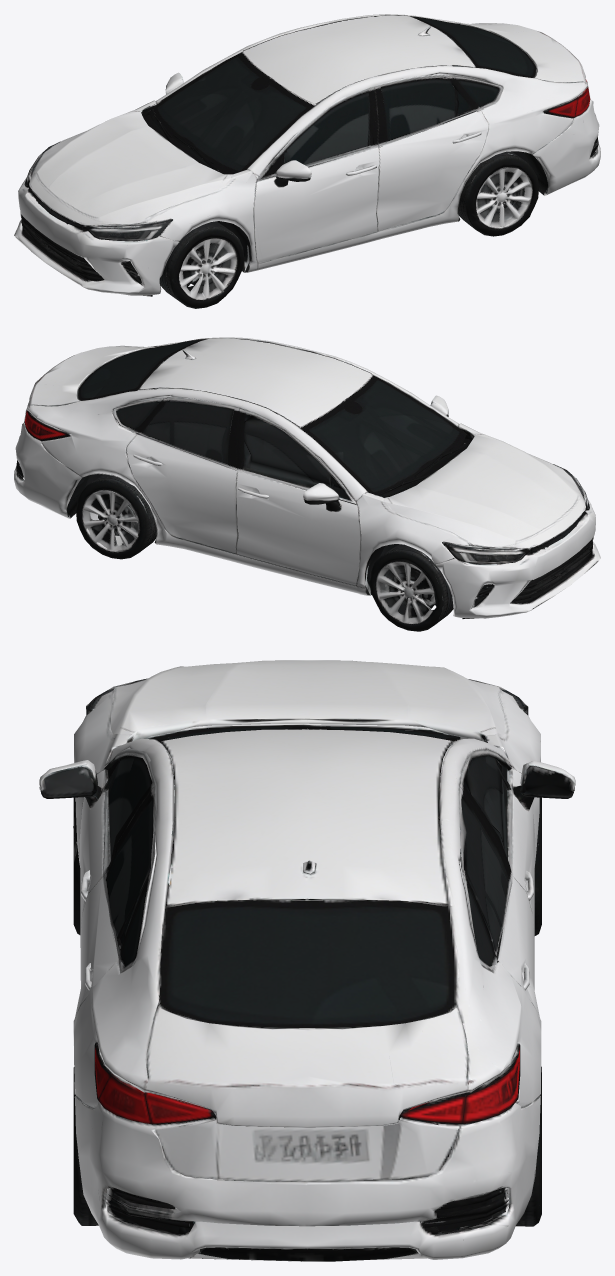
The model's file is sedan_alt.glb.
3 views of the same model, one above another, from view 1: azimuth 30°, elevation 25°; view 2: azimuth 150°, elevation 25°; view 3: azimuth 270°, elevation 25° (orthographic). The views are drawn at different scales.
Size of the model in its own units: 0.9565 by 0.2964 by 0.4204.
Materials: 1 (1 with a texture image).
